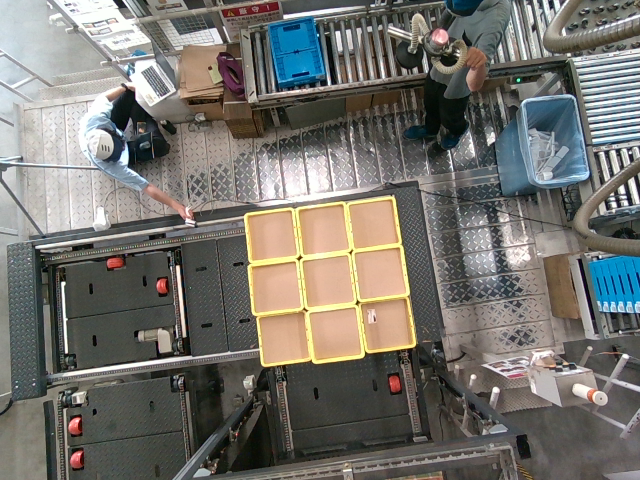box: (246, 212, 299, 262), (294, 204, 347, 254), (346, 198, 399, 248), (353, 248, 406, 298), (301, 257, 354, 307), (249, 262, 302, 312), (257, 313, 310, 363), (307, 309, 360, 359), (361, 299, 414, 349)
